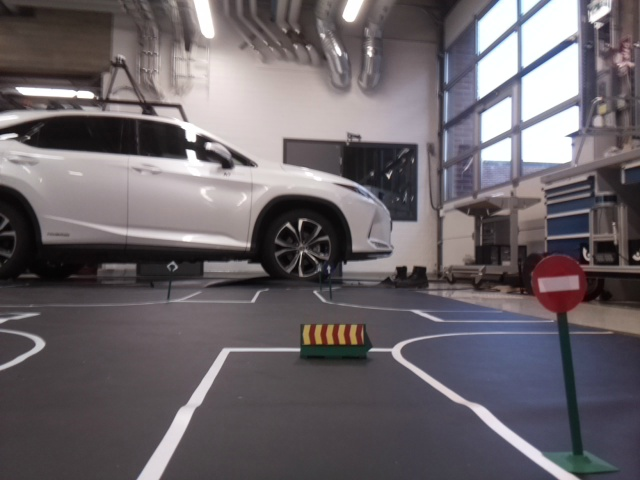ClosedRoadStand: (302, 324, 364, 348)
NoEntry: (531, 257, 586, 311)
